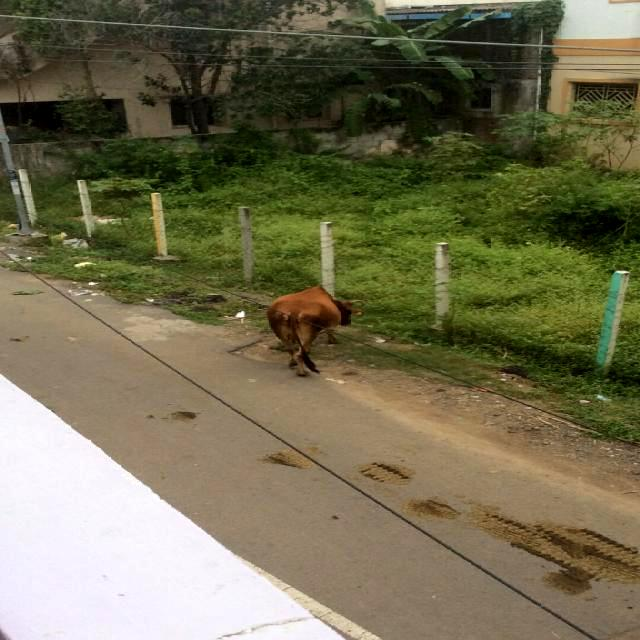COW: (268, 286, 351, 376)
